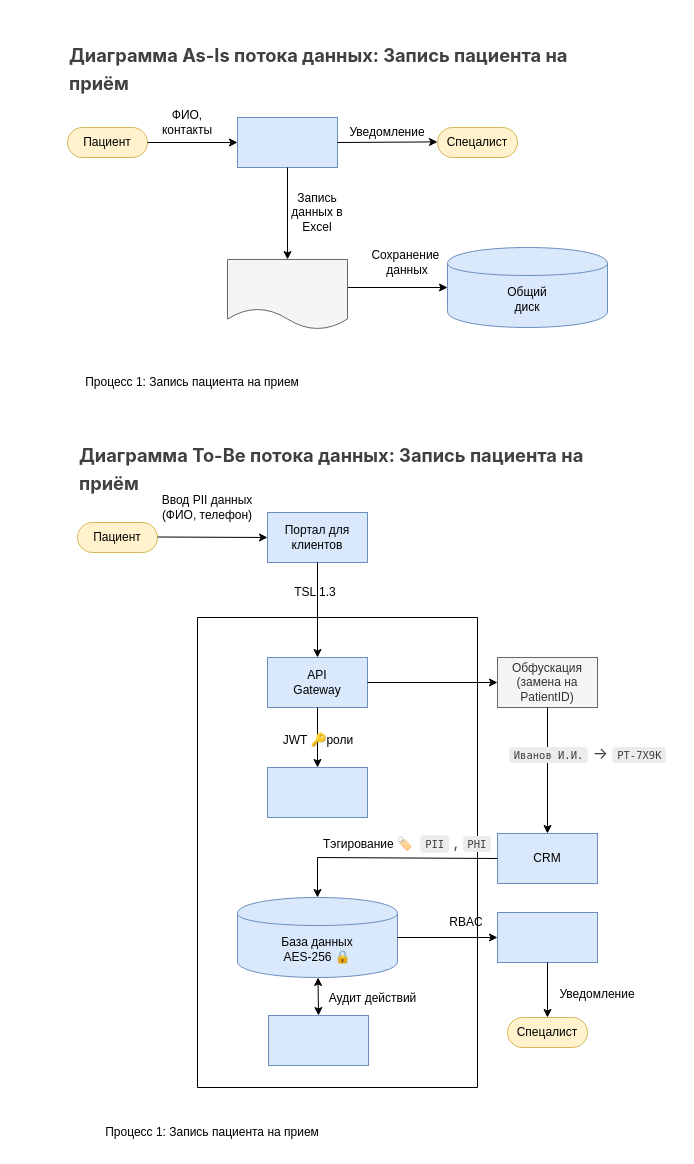
The diagram is 694 pixels wide and 1164 high, and some of its shapes have lost their labels. Here are the shapes that lost their labels. From the top down, the centre of each, then its label:
the point at 287,142: Рецепшн Обработка данных записи
the point at 287,294: XLS файл Journal_Doctor_FIO
the point at 317,792: Keycloak
the point at 547,937: Портал Рецепшн
the point at 318,1040: ELK 📝
